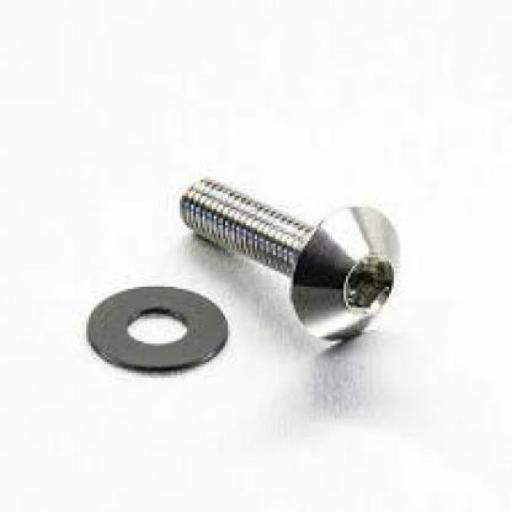Bolt: (178, 177, 401, 345)
Washer: (84, 285, 230, 374)
